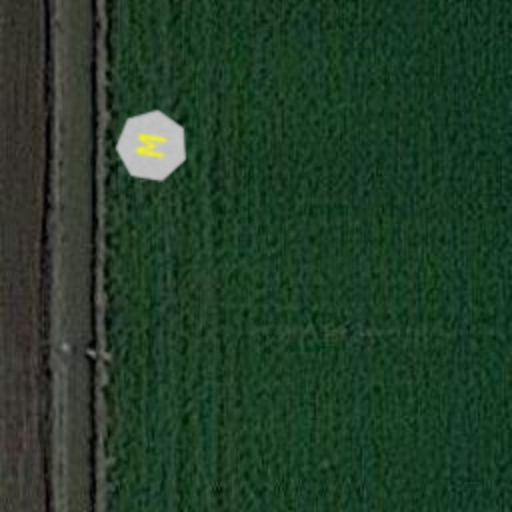heptagon: (108, 102, 196, 190)
